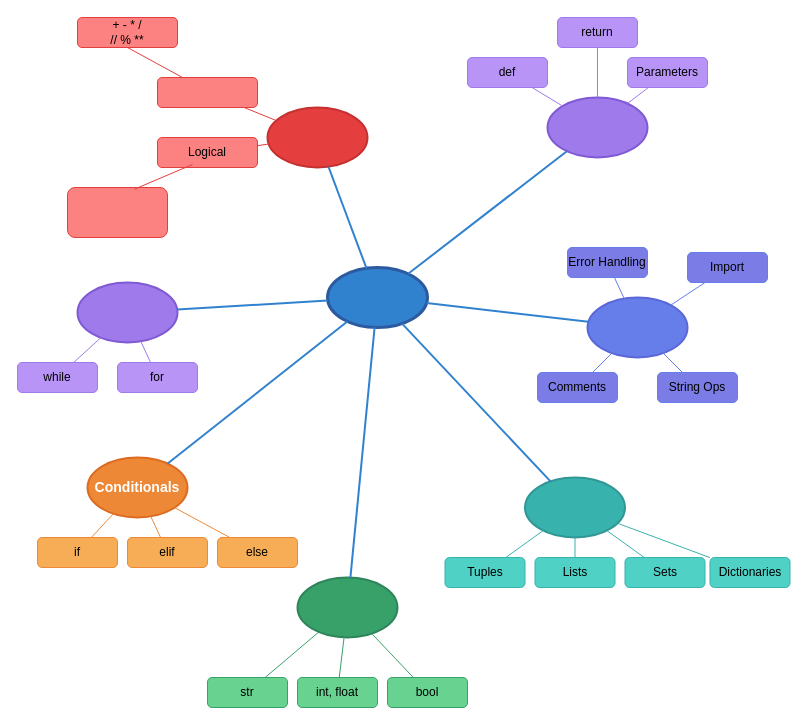
The diagram is 808 pixels wide and 725 high, and some of its shapes have lost their labels. The box of each missing label's shape, as (x1, y1, x2, y2) in pixels:
==; !=; >, < >=, <=, in, or, and: (66, 186, 168, 238)
Additional Topics: (586, 296, 688, 358)
Arithmetic: (156, 76, 258, 108)
Data Structures: (524, 476, 626, 538)
Functions: (546, 96, 648, 158)
Loops: (76, 281, 178, 343)
Operations & Operators: (266, 106, 368, 168)
Python Basics: (326, 266, 428, 328)
Variables & Types: (296, 576, 398, 638)
